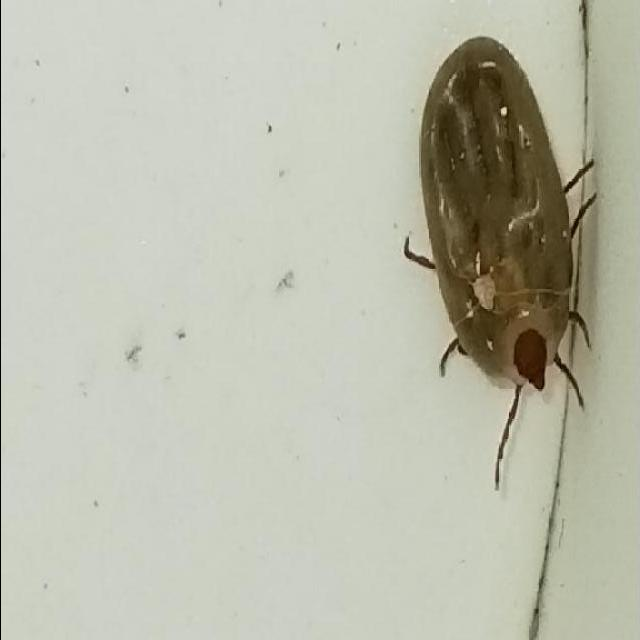Rhipicephalus Sanguineus-F-Fed: (406, 33, 603, 512)
